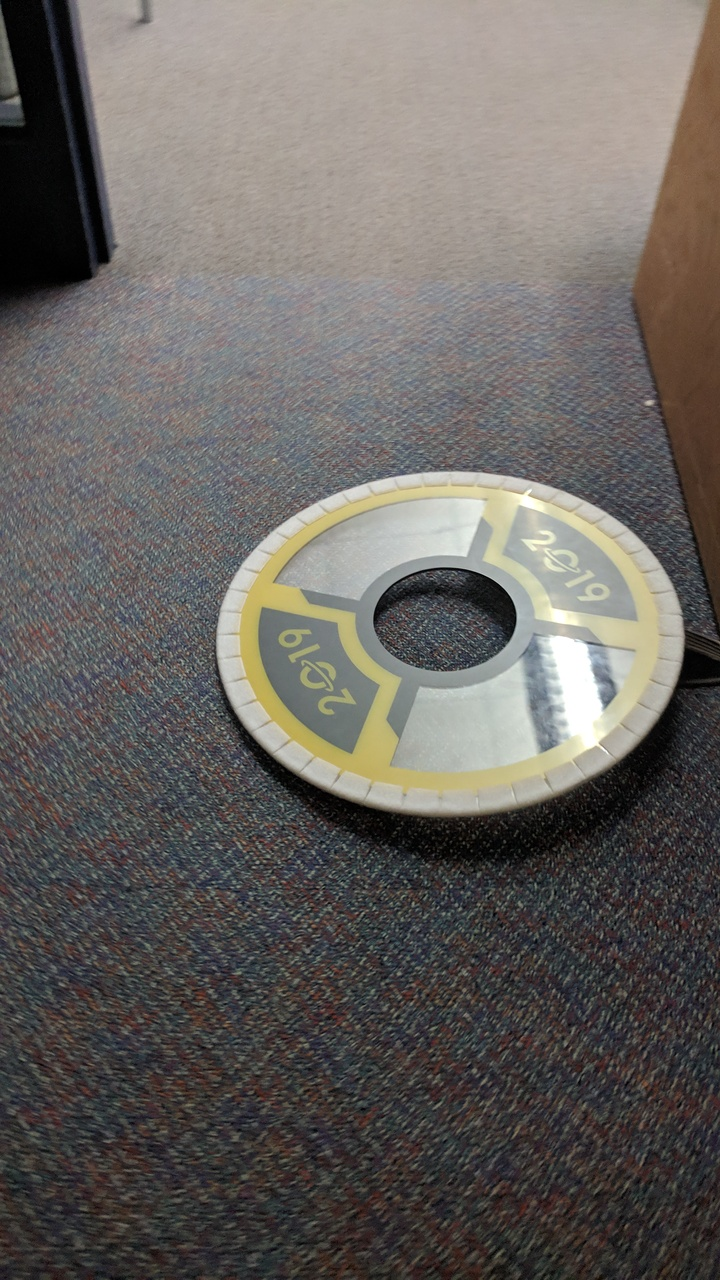hatch_panel: (211, 458, 700, 833)
